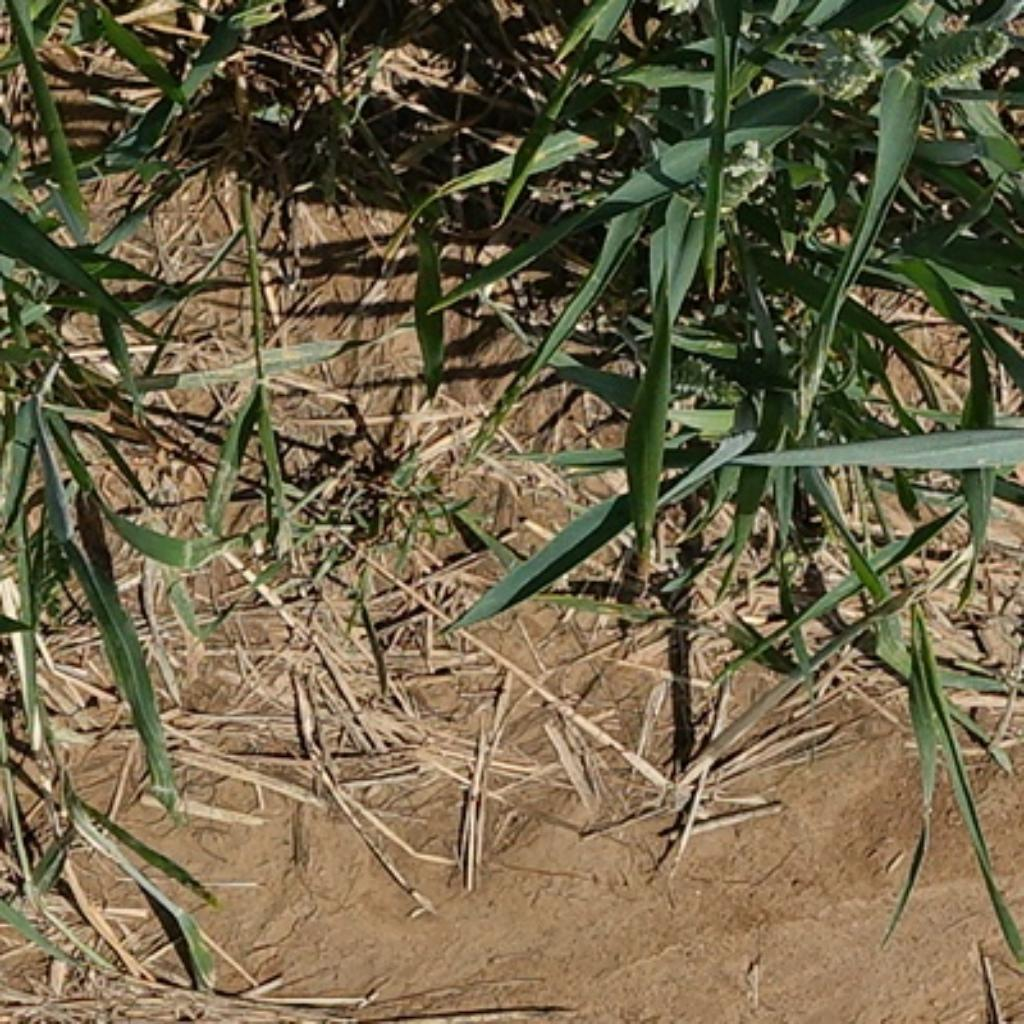0-0: (901, 7, 1011, 89), (686, 133, 778, 227), (793, 17, 888, 107), (664, 351, 753, 418)
